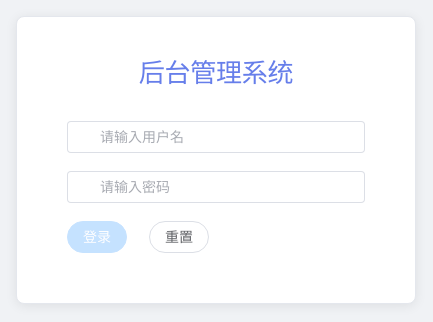
登录页 › 两个字段均有非空字符时启用登录按钮
Type "admin" into the field with placeholder "请输入用户名" at x=227, y=137, box 100,122 -> 354,152
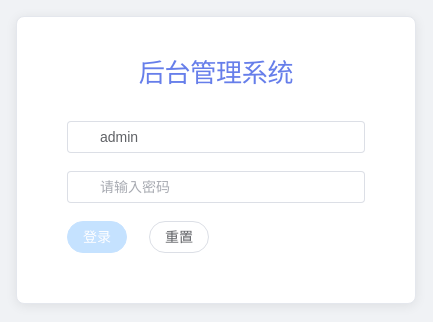
Type "123456" into the password field with placeholder "请输入密码" at x=227, y=187, box 100,172 -> 354,202
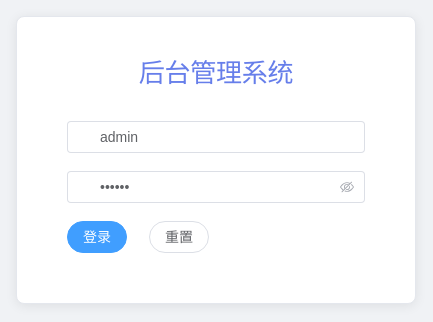
Result: the button "登录" is enabled at 67,221 -> 127,253
